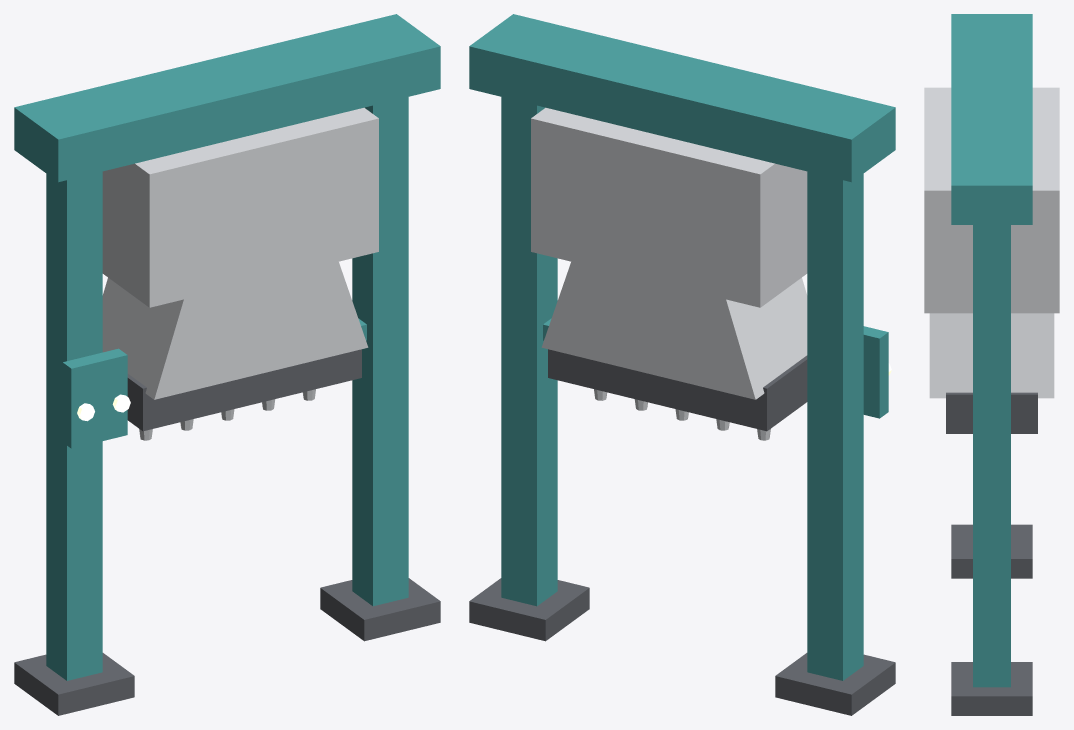
Rendered from chocolate-and-confectionery-factory-depositor-head-d03877d2__36770.glb.
3 renders of one model, left to right at view 1: azimuth 30°, elevation 25°; view 2: azimuth 150°, elevation 25°; view 3: azimuth 270°, elevation 25°, orthographic. The views are drawn at different scales.
Parts seen in each view (by area): view 1: depositor-head, head-depositor/dark; view 2: depositor-head, head-depositor/dark; view 3: depositor-head, head-depositor/dark.
Boxes of the visible parts, x1,y1,x2,y2 form: depositor-head: (14,14,440,715); head-depositor/dark: (127,349,361,431); depositor-head: (469,14,895,715); head-depositor/dark: (548,349,807,431); depositor-head: (924,14,1059,715); head-depositor/dark: (946,392,1037,433).
Bounding box in the file's own units: 1.5 × 2.16 × 0.5001.
